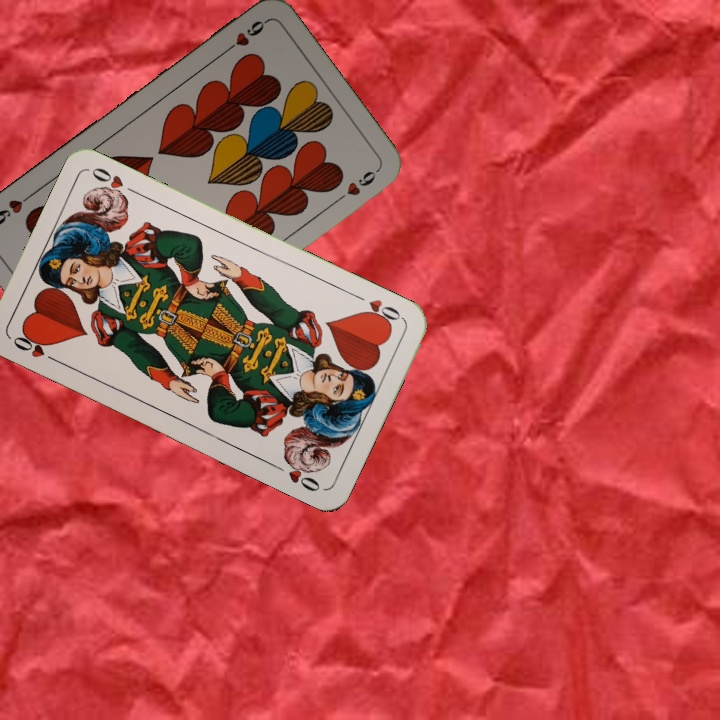H9: (219, 16, 270, 57)
HO: (350, 290, 405, 329), (8, 330, 63, 366)
